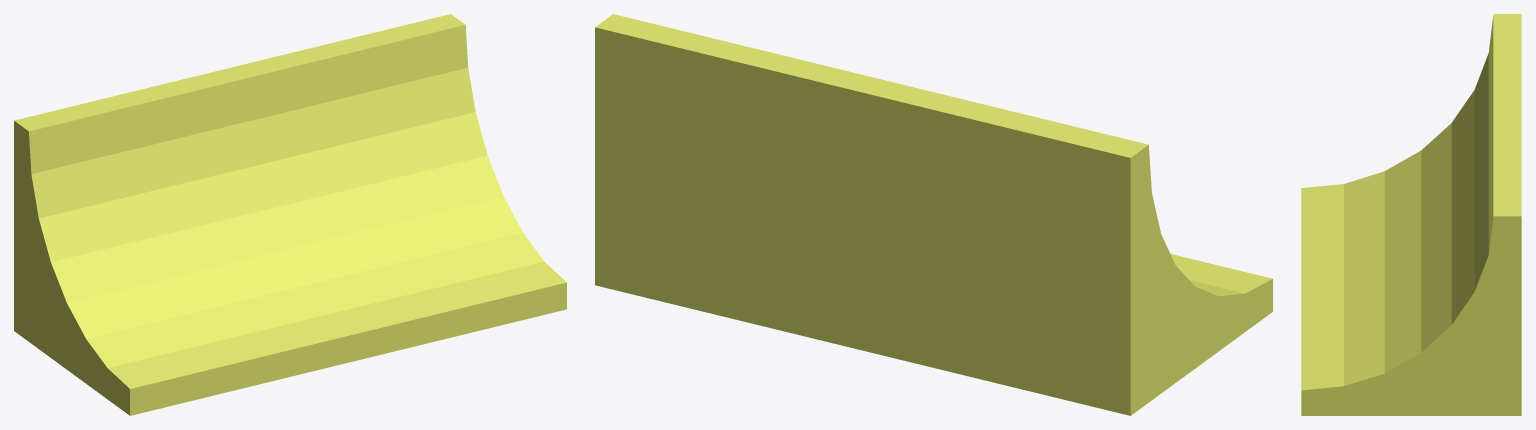
The model's file is Rampa Lateral.fbx.
The picture shows the model from 3 angles, left to right: view 1: azimuth 30°, elevation 25°; view 2: azimuth 150°, elevation 25°; view 3: azimuth 270°, elevation 25°; orthographic projection. The views are drawn at different scales.
Visible parts, largest first — view 1: Cube; view 2: Cube; view 3: Cube.
Boxes of the visible parts, x1=… form: Cube: x1=14, y1=14, x2=566, y2=415; Cube: x1=595, y1=14, x2=1272, y2=415; Cube: x1=1301, y1=14, x2=1521, y2=415.
Size of the model in its own units: 19.61 by 9.02 by 9.02.
